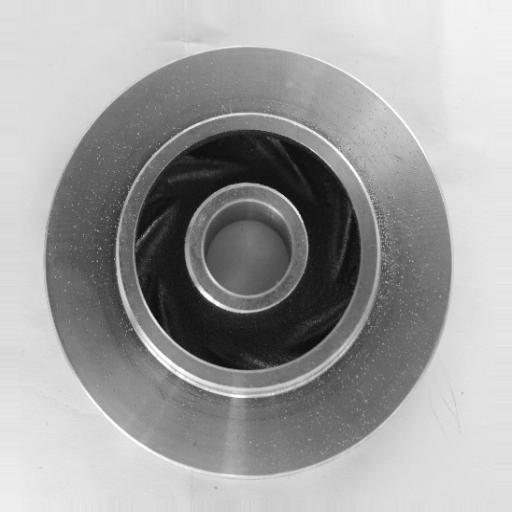polished_casting: (43, 43, 452, 480)
